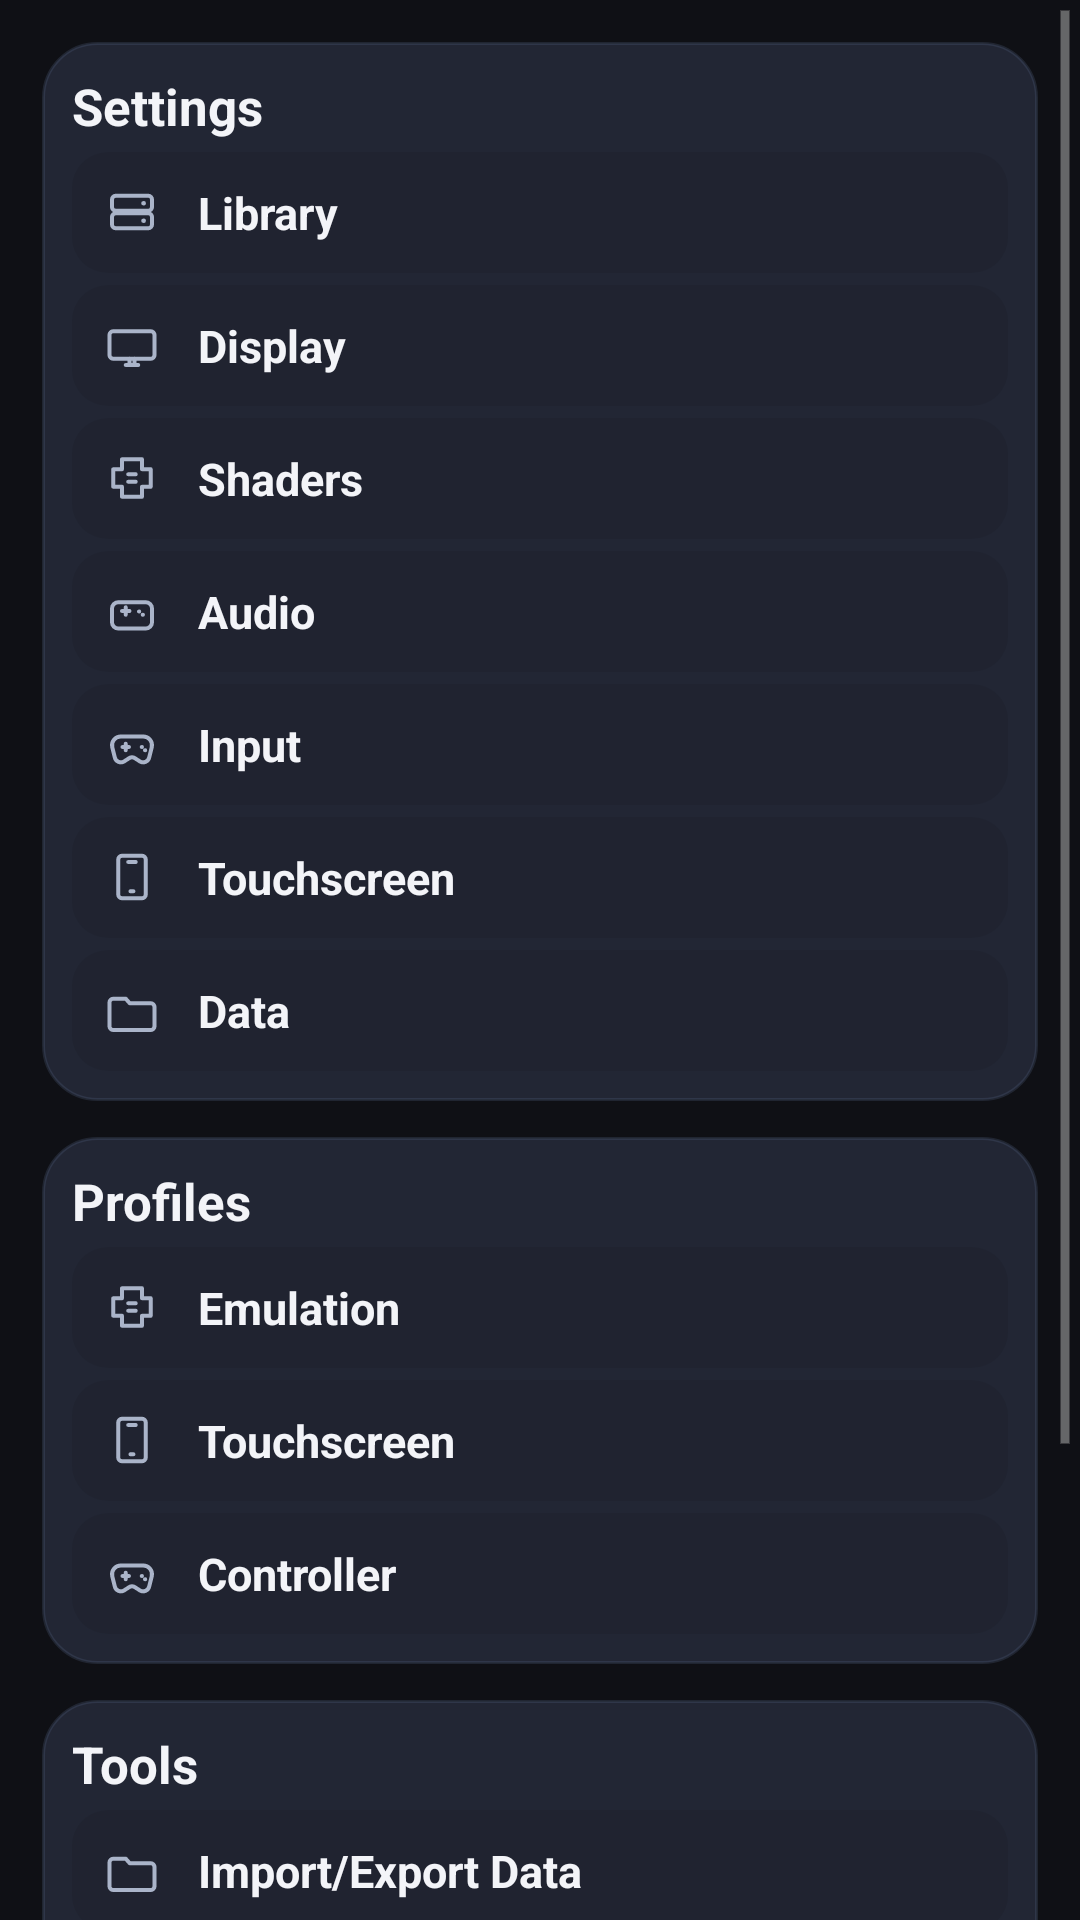

Icon bounding boxes for this 1080px×1920px phone screenshot, format (x1, y1, x2, y2):
folder: (107, 996, 157, 1032), (107, 1856, 157, 1892)
gamepad: (110, 734, 154, 765), (110, 1563, 154, 1594)
phone: (116, 853, 148, 901), (116, 1416, 148, 1464)
storage: (110, 193, 154, 231)
